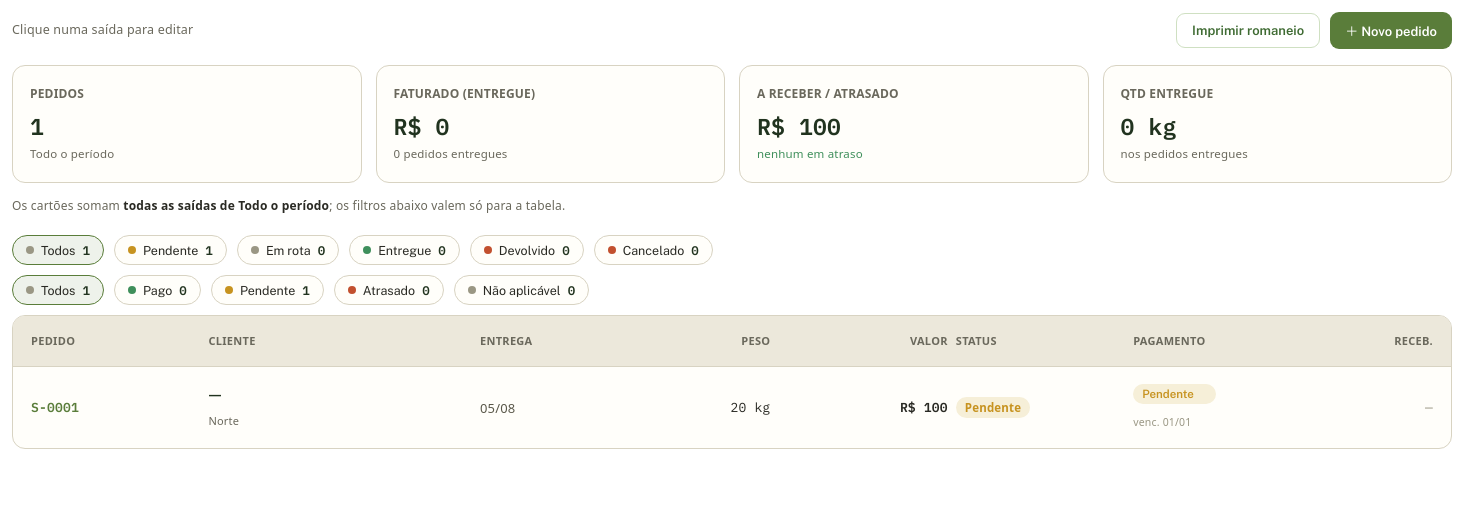
Test: SaidasLista — pagamento editável na linha (chip vira seletor, Atrasado calculado) › falha do PATCH reverte o chip pro valor anterior e mostra aviso
Step 1. Select "Pago" in the dropdown → (1175, 394), box [1133,384,1216,404]
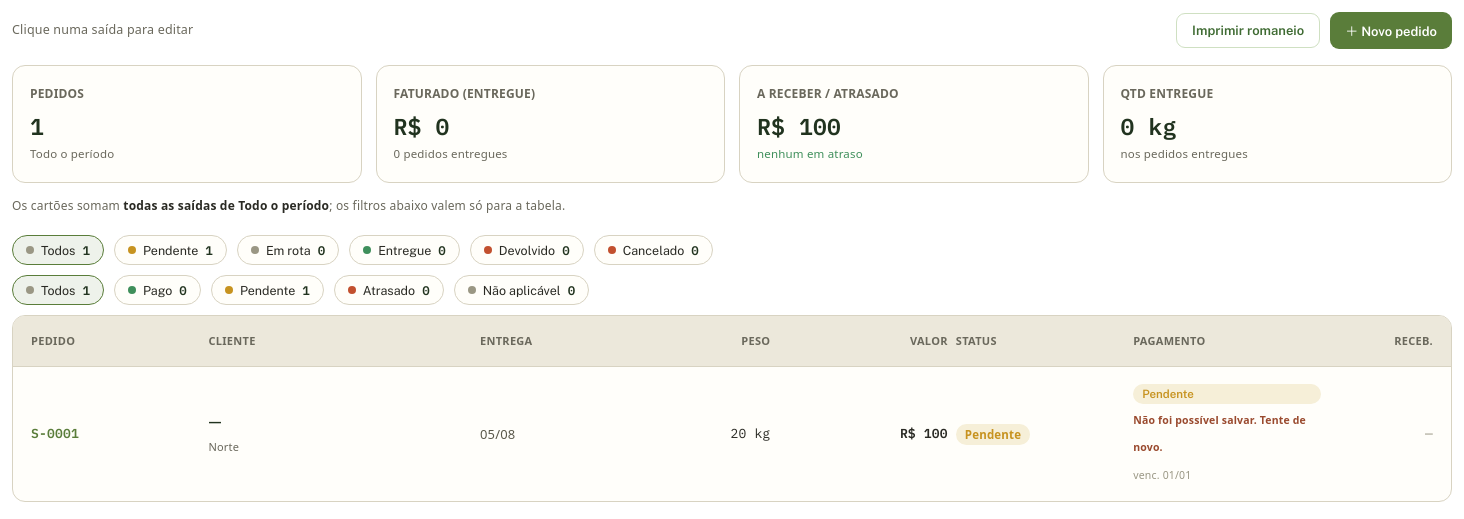
Result: the message "Não foi possível salvar. Tente de novo." is shown at [1133,408,1322,460]
